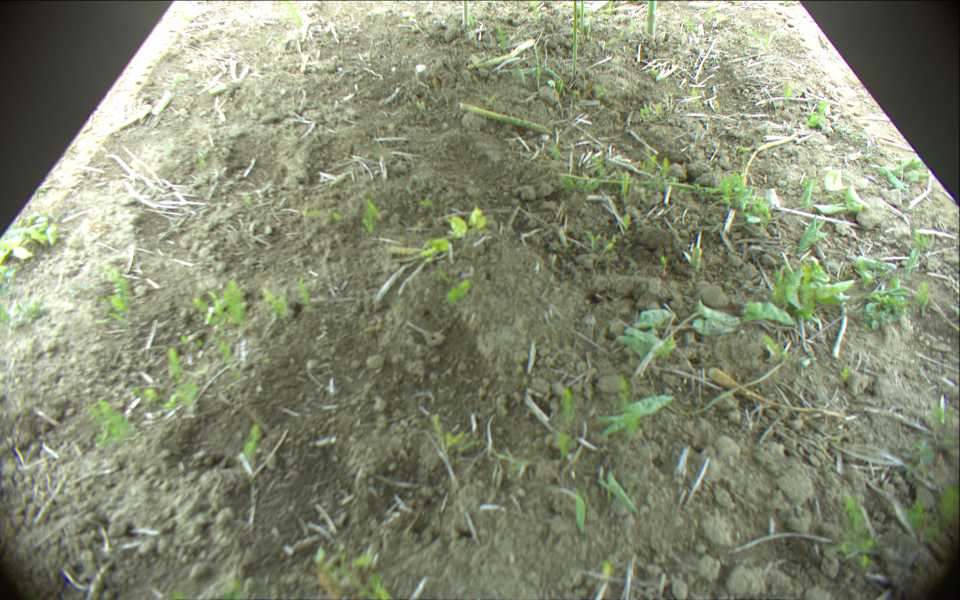aspa: (461, 102, 552, 132), (468, 37, 536, 68), (571, 1, 578, 82), (645, 1, 657, 40), (579, 1, 585, 35), (463, 1, 469, 28)
